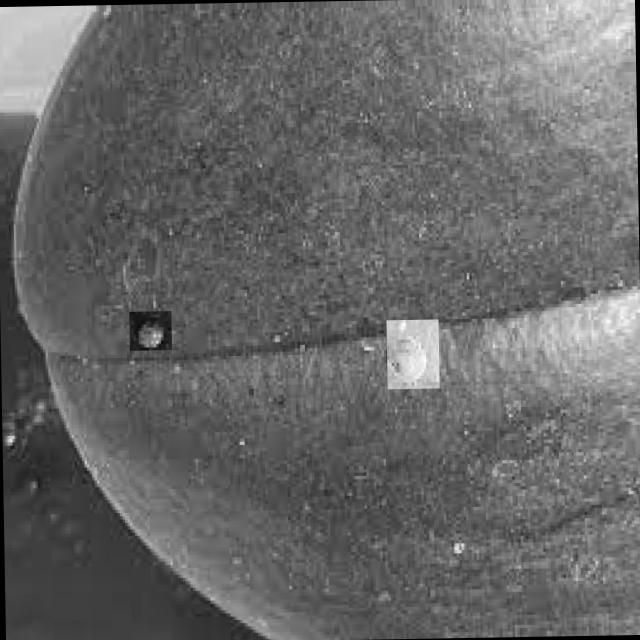scale_insect: (386, 318, 438, 388), (128, 310, 171, 350)
